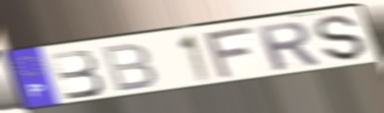1: (178, 30, 212, 84)
B: (47, 48, 107, 102), (99, 41, 159, 94)
F: (203, 24, 257, 81)
R: (254, 20, 323, 73)
S: (313, 14, 370, 62)
